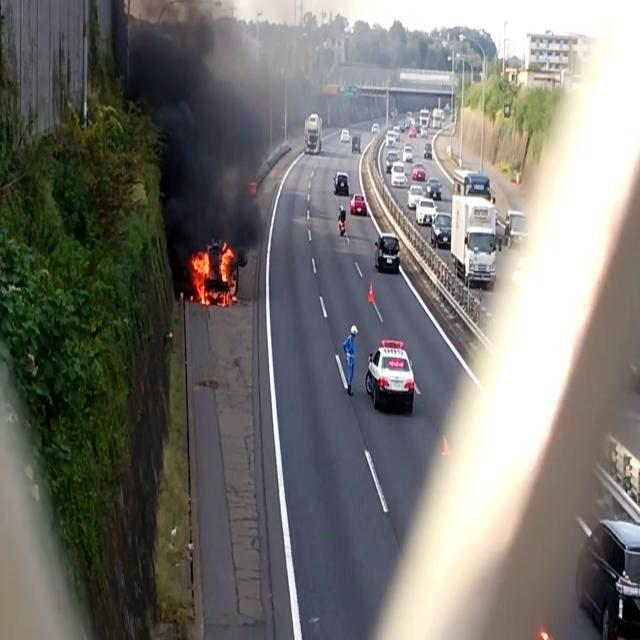Fire: (187, 237, 237, 306)
Smoke: (105, 0, 272, 236)
